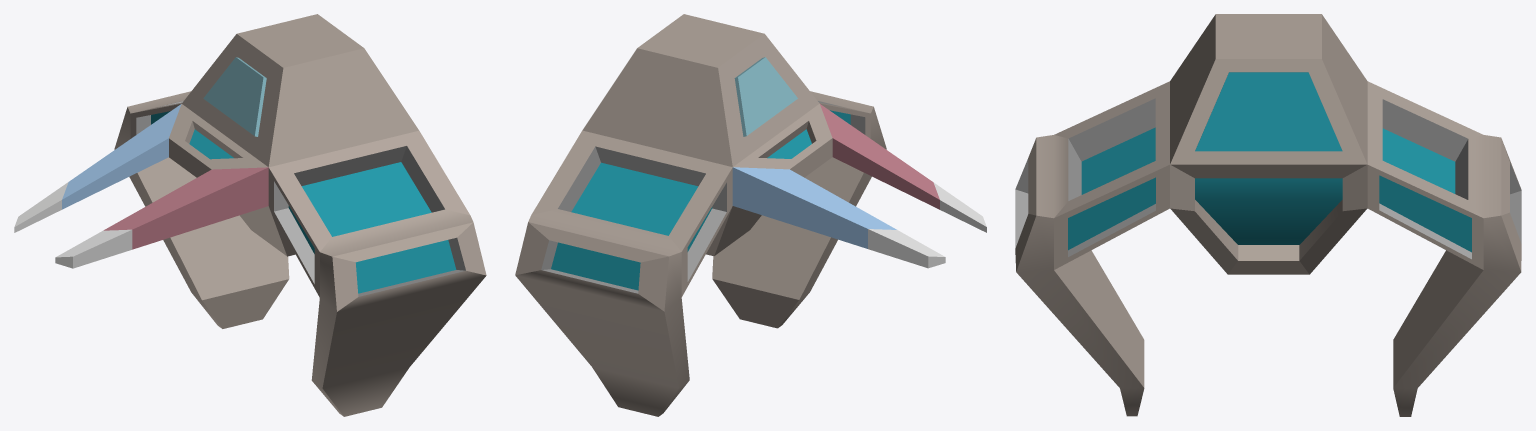
The model's file is spacecraft_magnet.fbx.
3 renders of one model, left to right at view 1: azimuth 30°, elevation 25°; view 2: azimuth 150°, elevation 25°; view 3: azimuth 270°, elevation 25°, orthographic. The views are drawn at different scales.
Parts seen in each view (by area): view 1: pCube1; view 2: pCube1; view 3: pCube1.
Part boxes in pixels (<box>): pCube1: <box>14,14,486,416</box>; pCube1: <box>515,14,986,416</box>; pCube1: <box>1015,14,1521,416</box>.
Bounding box in the file's own units: 108 × 98.78 × 123.
